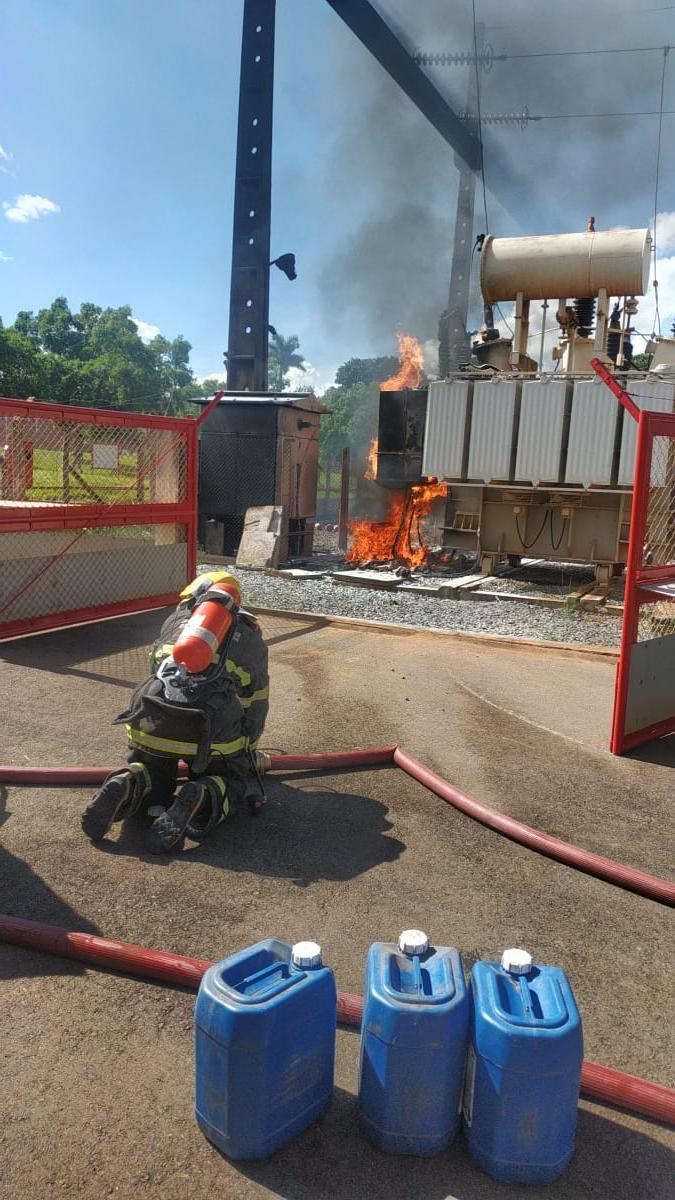Fire: (342, 489, 452, 566), (379, 330, 434, 395), (363, 436, 382, 478)
